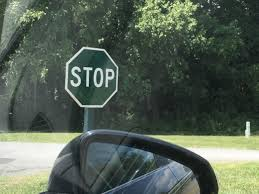SS: (66, 47, 119, 109)
